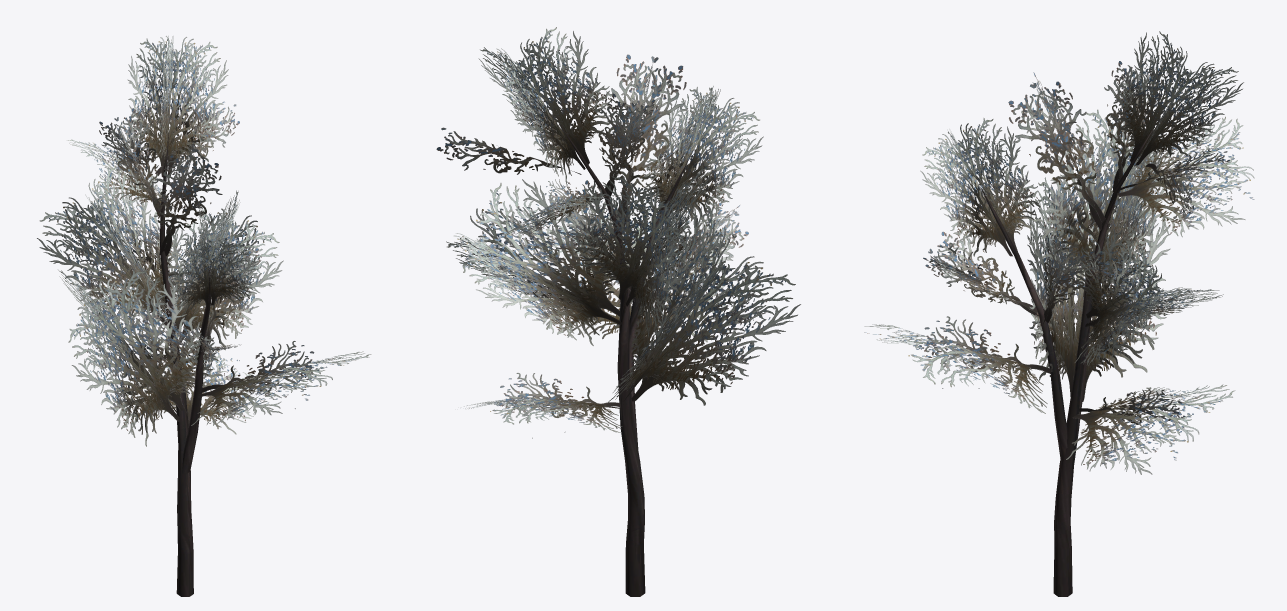
File: wintergrasp_bush_03.obj
3 views of the same model, side by side, from view 1: azimuth 30°, elevation 25°; view 2: azimuth 150°, elevation 25°; view 3: azimuth 270°, elevation 25° (orthographic). The views are drawn at different scales.
Parts seen in each view (by area): view 1: Geoset1, Geoset0; view 2: Geoset1, Geoset0; view 3: Geoset1, Geoset0.
Part boxes in pixels (left/top/right/bottom): Geoset1: left=37, top=36, right=371, bottom=446; Geoset0: left=160, top=128, right=210, bottom=596; Geoset1: left=436, top=27, right=800, bottom=438; Geoset0: left=559, top=124, right=690, bottom=596; Geoset1: left=864, top=31, right=1254, bottom=474; Geoset0: left=980, top=129, right=1152, bottom=596.
Size of the model in its own units: 4.85 by 7.88 by 5.04.
2 materials, 2 textured.
